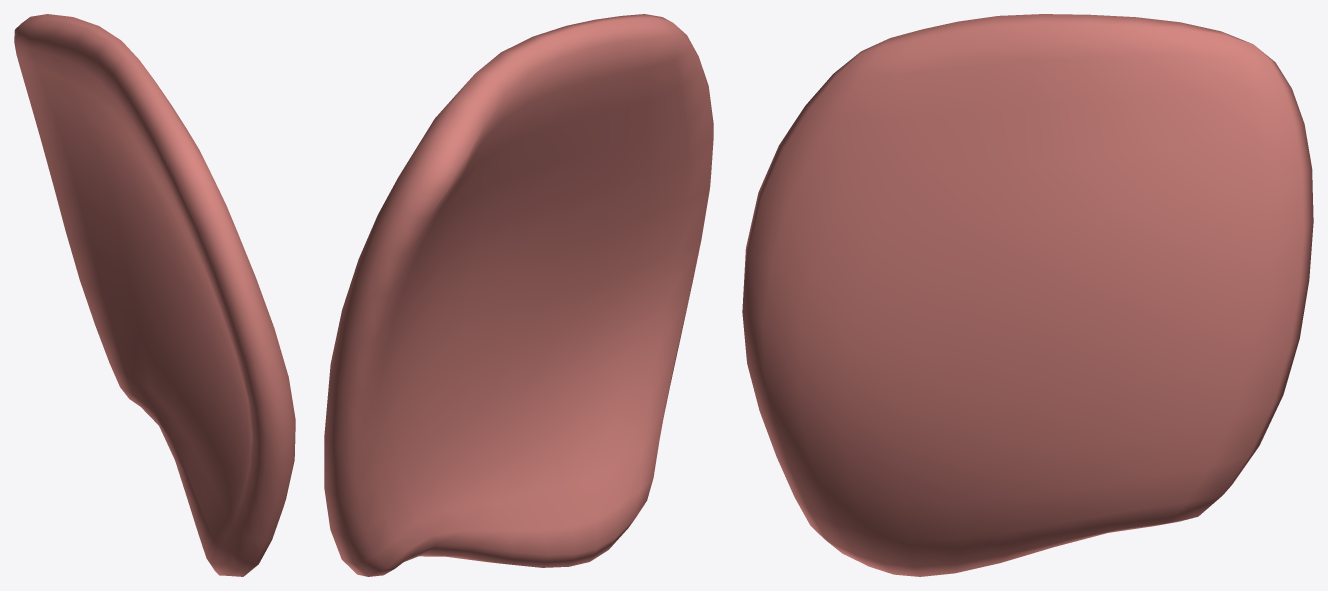
3 renders of one model, left to right at view 1: azimuth 30°, elevation 25°; view 2: azimuth 150°, elevation 25°; view 3: azimuth 270°, elevation 25°, orthographic. The views are drawn at different scales.
Parts seen in each view (by area): view 1: ZA_e3f151b1d30f5262; view 2: ZA_e3f151b1d30f5262; view 3: ZA_e3f151b1d30f5262.
Part boxes in pixels (box(x1,y1,x2,y2)): ZA_e3f151b1d30f5262: box(14, 14, 295, 576); ZA_e3f151b1d30f5262: box(324, 14, 713, 576); ZA_e3f151b1d30f5262: box(742, 14, 1313, 576).
Bounding box in the file's own units: 0.00699 × 0.0234 × 0.0225.
